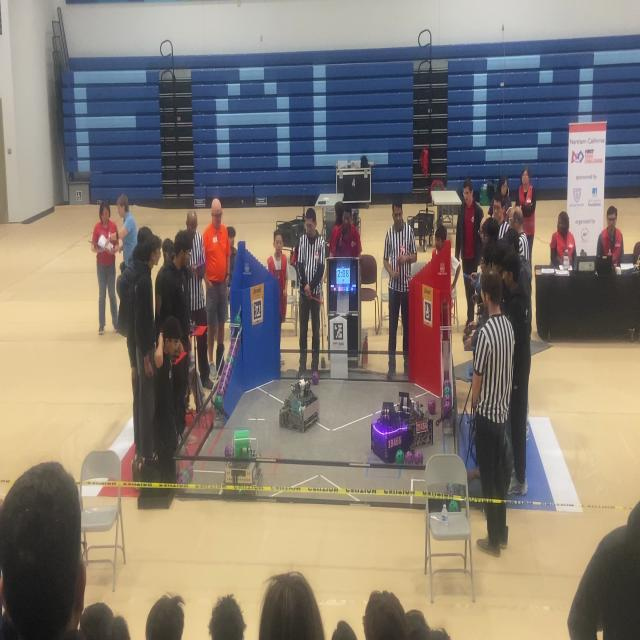artifact_green: (448, 500, 460, 512), (442, 400, 451, 416), (214, 395, 222, 410), (405, 450, 413, 464), (396, 450, 404, 464), (182, 469, 189, 483), (187, 465, 193, 481), (443, 395, 452, 405), (234, 313, 241, 325), (228, 356, 235, 367), (178, 475, 186, 484), (444, 387, 450, 395), (242, 447, 248, 454), (444, 379, 450, 386)
artifact_purple: (214, 392, 222, 410), (414, 451, 423, 465), (443, 400, 451, 415), (182, 469, 190, 483), (428, 400, 435, 415), (219, 382, 227, 395), (224, 366, 232, 379), (405, 451, 413, 464), (225, 365, 232, 379), (221, 368, 229, 380), (218, 384, 225, 397), (226, 367, 233, 380), (443, 394, 452, 404), (220, 374, 228, 385), (220, 374, 227, 386), (225, 445, 232, 457), (312, 371, 318, 385), (230, 338, 236, 352), (178, 474, 186, 484), (218, 376, 224, 389), (187, 465, 193, 478), (235, 313, 241, 325), (220, 384, 226, 396), (224, 376, 230, 387), (444, 386, 451, 395), (224, 381, 228, 393), (444, 379, 450, 386)
